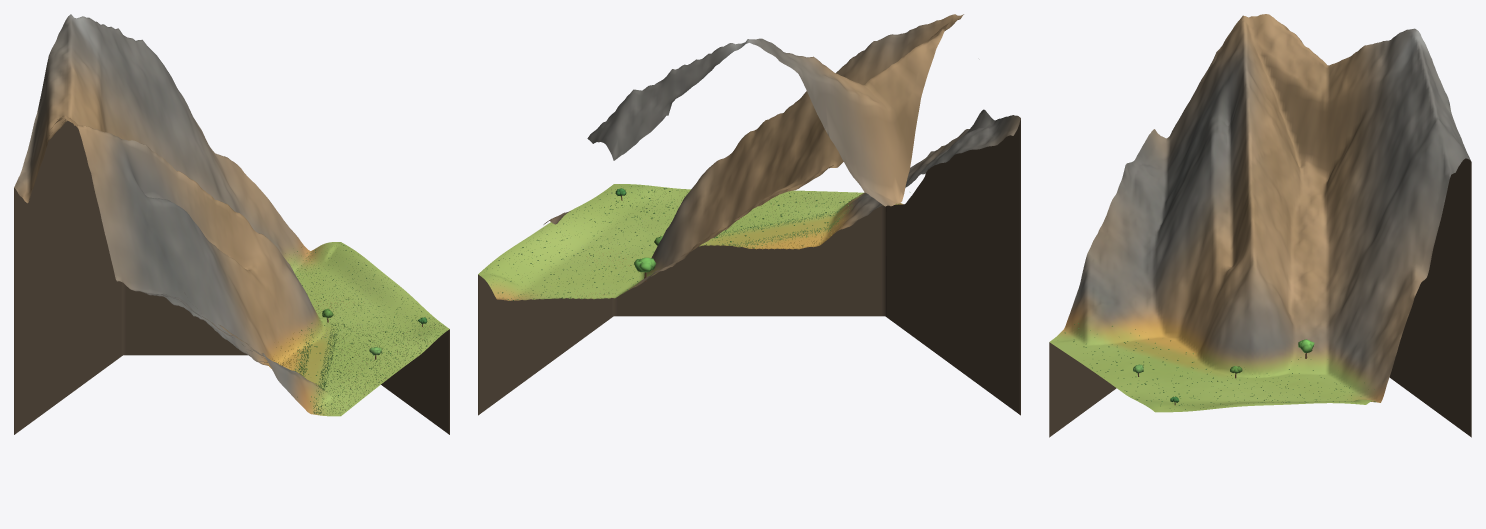
The picture shows the model from 3 angles, left to right: view 1: azimuth 30°, elevation 25°; view 2: azimuth 150°, elevation 25°; view 3: azimuth 270°, elevation 25°; orthographic projection. The views are drawn at different scales.
Visible parts, largest first — view 1: terrain, hex_side_cut, SV_W_wildflowers; view 2: terrain, hex_side_cut, SV_W_wildflowers; view 3: terrain, hex_side_cut.
Part boxes in pixels (x1=…): terrain: x1=14, y1=14, x2=449, y2=416; hex_side_cut: x1=14, y1=121, x2=449, y2=434; SV_W_wildflowers: x1=264, y1=323, x2=444, y2=415; terrain: x1=478, y1=14, x2=1020, y2=300; hex_side_cut: x1=478, y1=119, x2=1020, y2=415; SV_W_wildflowers: x1=611, y1=185, x2=910, y2=248; terrain: x1=1049, y1=14, x2=1471, y2=412; hex_side_cut: x1=1049, y1=158, x2=1471, y2=437.
Bounding box in the file's own units: 4330 × 4825 × 5000.
